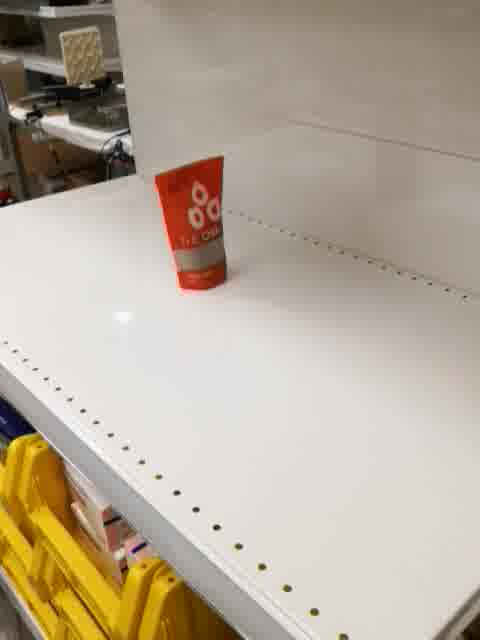whitechia: (155, 146, 230, 293)
